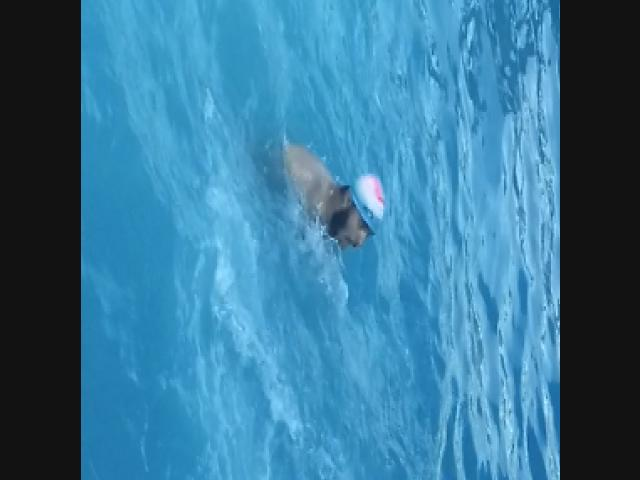drowning: (274, 126, 386, 269)
